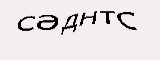Д: (60, 12, 80, 35)
Н: (78, 9, 97, 26)
С: (115, 8, 139, 30), (14, 13, 35, 32)
Т: (97, 8, 117, 27)
Ә: (35, 12, 60, 33)
